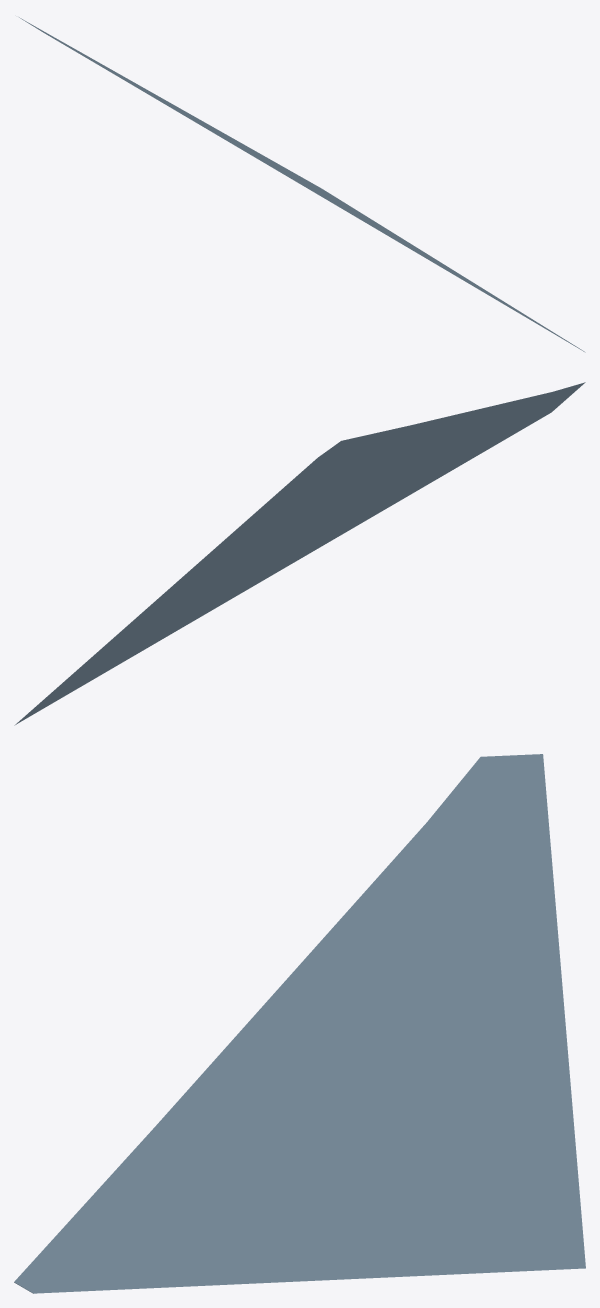
3 views of the same model, one above another, from view 1: azimuth 30°, elevation 25°; view 2: azimuth 150°, elevation 25°; view 3: azimuth 270°, elevation 25° (orthographic). The views are drawn at different scales.
Size of the model in its own units: 868 by 625 by 988.
